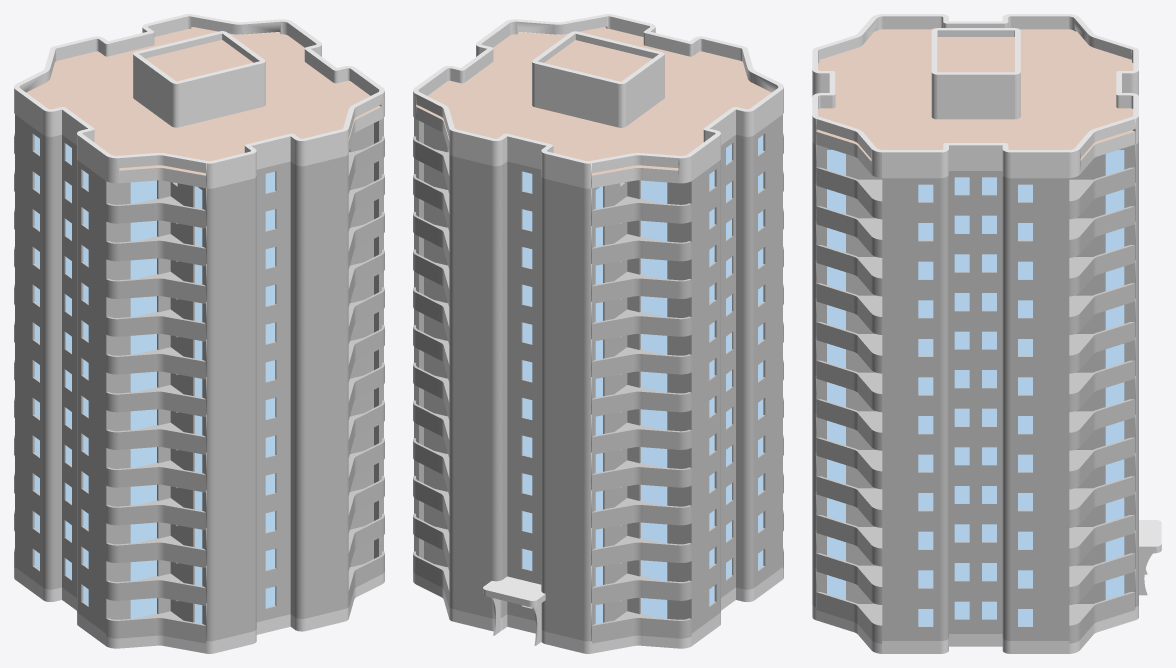
Rendered from monolith-house3.glb.
3 views of the same model, side by side, from view 1: azimuth 30°, elevation 25°; view 2: azimuth 150°, elevation 25°; view 3: azimuth 270°, elevation 25° (orthographic). The views are drawn at different scales.
Visible parts, largest first — view 1: 34534к54#1.001, 34534к54#1.003, 5720, 34534к54#1.002, 34534к54.038, 34534к54.016, 34534к54.002, 34534к54.028, 34534к54.035, 34534к54.012, 34534к54.014, 34534к54.041 (+32 smaller); view 2: 34534к54#1.002, 34534к54#1, 5720, 34534к54#1.001, 34534к54.042, 34534к54.019, 34534к54.032, 34534к54.020, 34534к54.005, 34534к54.037, 34534к54.039, 34534к54.011 (+33 smaller); view 3: 34534к54#1.003, 34534к54#1, 34534к54#1.001, 34534к54#1.002, 5720, 34534к54.043, 34534к54.047, 34534к54.027, 34534к54.021, 34534к54.026, 34534к54.046, 34534к54.044 (+20 smaller).
Boxes of the visible parts, left/top/right/bottom form: 34534к54#1.001: left=75, top=113, right=270, bottom=188; 34534к54#1.003: left=221, top=58, right=384, bottom=166; 5720: left=133, top=31, right=265, bottom=127; 34534к54#1.002: left=14, top=36, right=152, bottom=143; 34534к54.038: left=75, top=144, right=270, bottom=228; 34534к54.016: left=75, top=295, right=270, bottom=379; 34534к54.002: left=75, top=559, right=270, bottom=643; 34534к54.028: left=75, top=408, right=270, bottom=492; 34534к54.035: left=75, top=446, right=270, bottom=530; 34534к54.012: left=75, top=258, right=270, bottom=341; 34534к54.014: left=75, top=182, right=270, bottom=266; 34534к54.041: left=75, top=522, right=270, bottom=605; 34534к54#1.002: left=527, top=113, right=722, bottom=188; 34534к54#1: left=413, top=58, right=575, bottom=166; 5720: left=532, top=31, right=664, bottom=127; 34534к54#1.001: left=645, top=36, right=783, bottom=143; 34534к54.042: left=527, top=144, right=722, bottom=228; 34534к54.019: left=527, top=295, right=722, bottom=379; 34534к54.032: left=527, top=408, right=722, bottom=492; 34534к54.020: left=527, top=446, right=722, bottom=530; 34534к54.005: left=527, top=258, right=722, bottom=341; 34534к54.037: left=527, top=522, right=722, bottom=605; 34534к54.039: left=527, top=182, right=722, bottom=266; 34534к54.011: left=527, top=333, right=722, bottom=417; 34534к54#1.003: left=812, top=83, right=975, bottom=178; 34534к54#1: left=975, top=83, right=1138, bottom=178; 34534к54#1.001: left=812, top=14, right=975, bottom=95; 34534к54#1.002: left=975, top=14, right=1138, bottom=95; 5720: left=931, top=28, right=1020, bottom=119; 34534к54.043: left=975, top=142, right=1138, bottom=219; 34534к54.047: left=812, top=141, right=975, bottom=219; 34534к54.027: left=812, top=450, right=975, bottom=527; 34534к54.021: left=975, top=451, right=1138, bottom=527; 34534к54.026: left=975, top=374, right=1138, bottom=450; 34534к54.046: left=975, top=181, right=1138, bottom=257; 34534к54.044: left=812, top=180, right=975, bottom=257.
Bounding box in the file's own units: 23.09 × 41.48 × 24.6.
